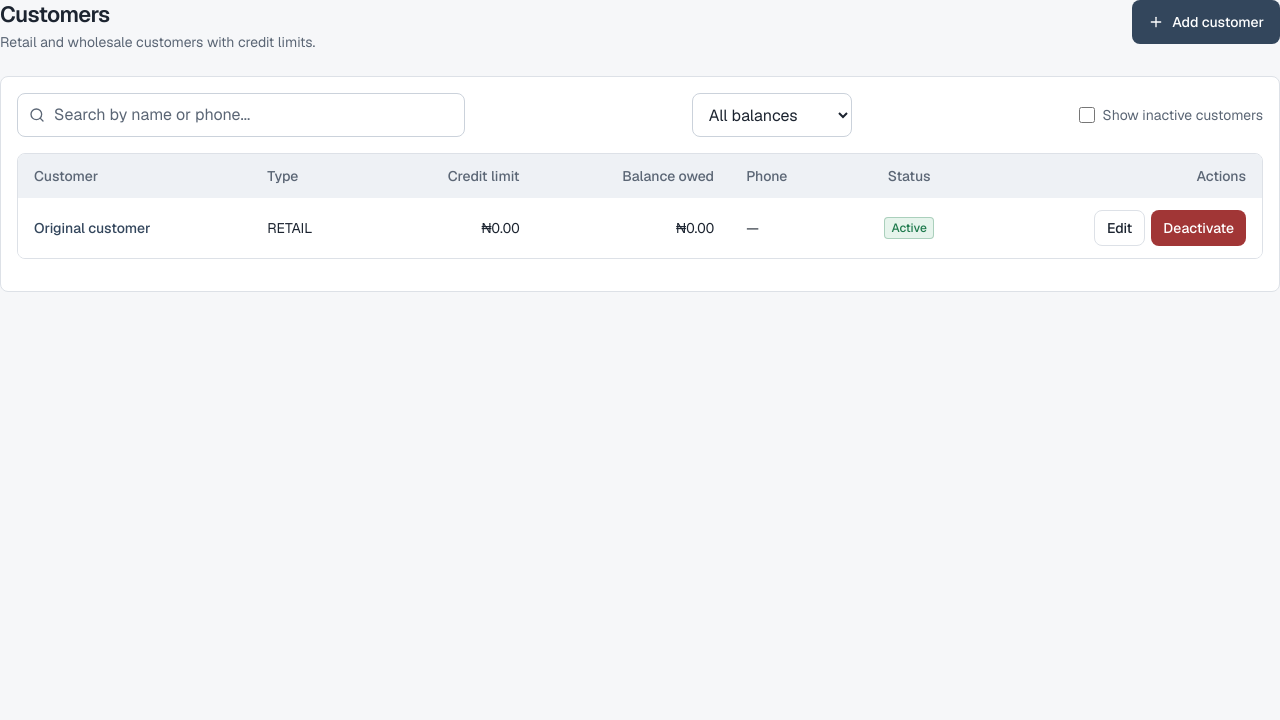
it: shows and recovers from a failed customer true save
The image size is (1280, 720).
Click the button "Edit" at (1120, 228), box [1094,210,1145,246]
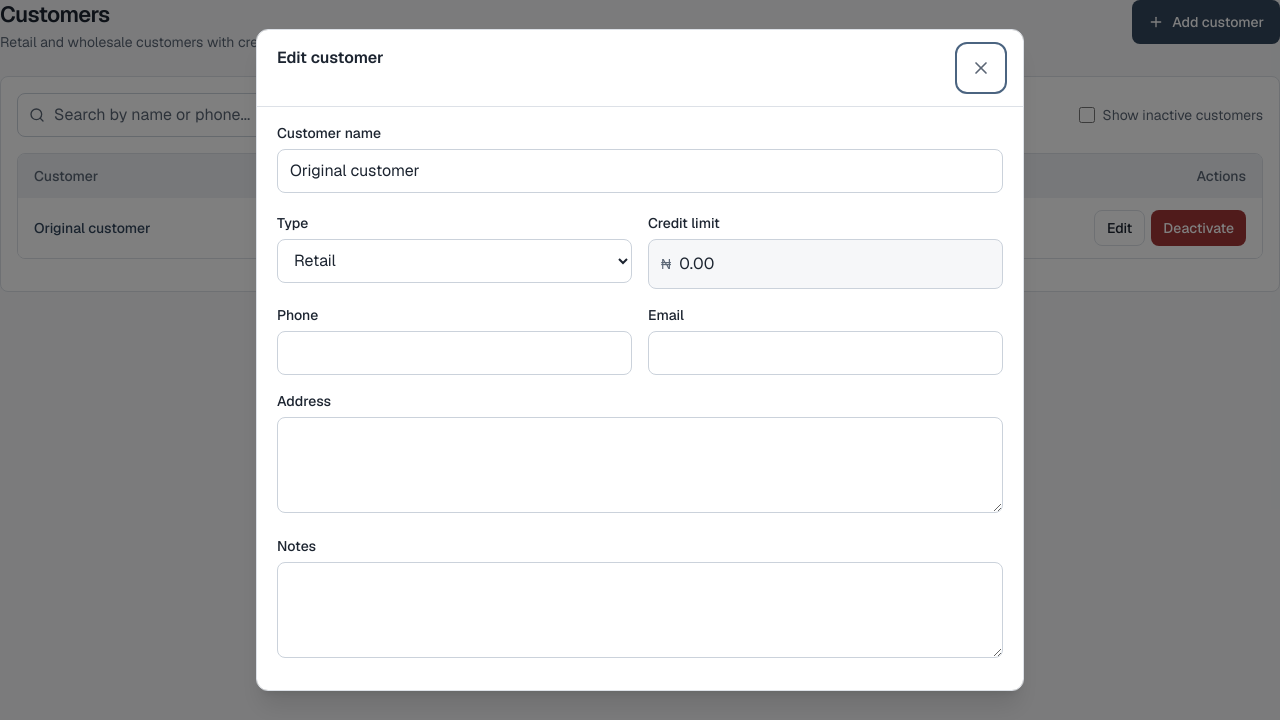
Result: the dialog is shown at [256,29,1024,691]
Replace the text in the field labelled "Customer name" with "First name" at (640, 171), box [277,149,1003,193]
(page scrolled)
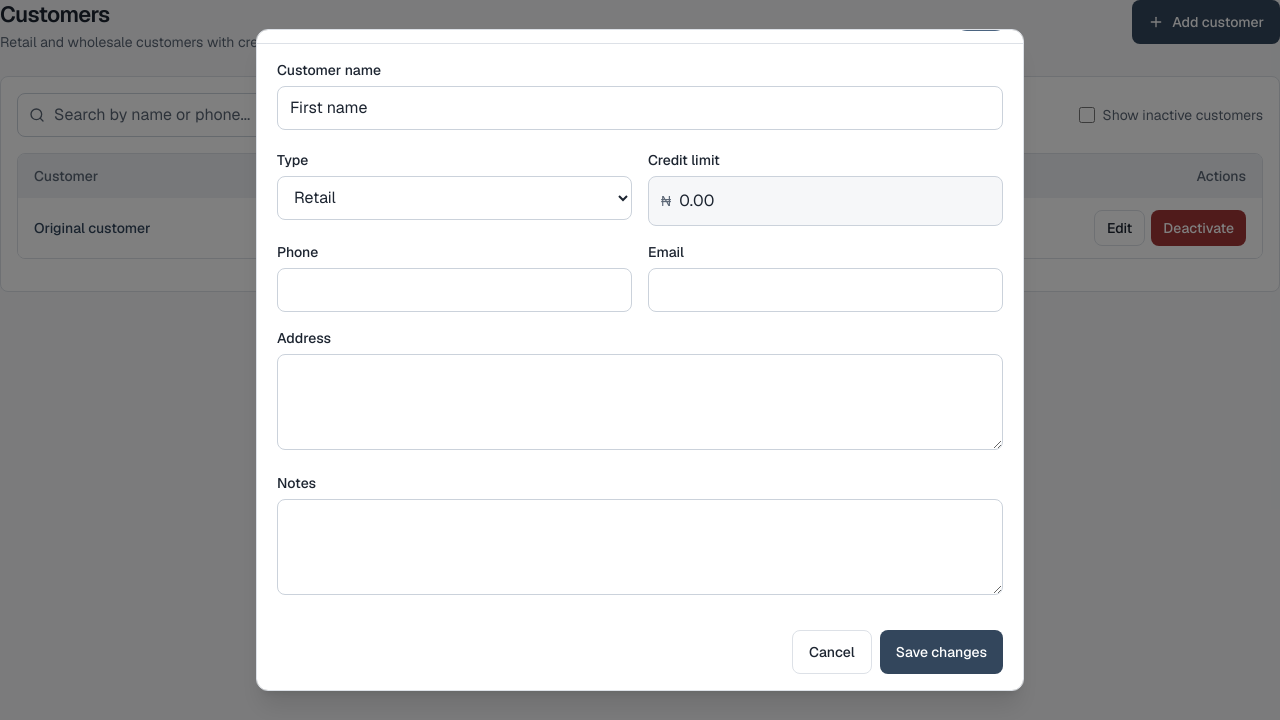
Submit the form, box [277,60,1003,674]
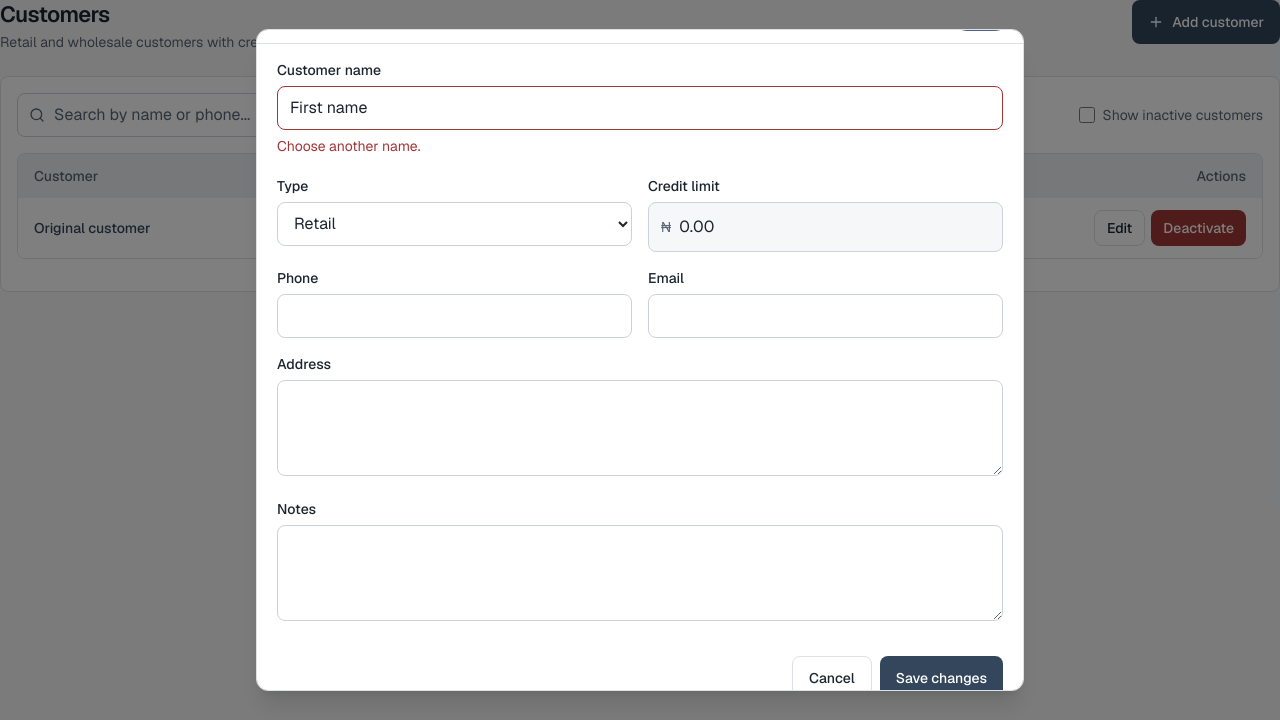
Result: the dialog is shown at [256,29,1024,691]
Result: the text "Choose another name." is shown at [277,137,420,155]
Replace the text in the field labelled "Customer name" with "Corrected name" at (640, 108), box [277,86,1003,130]
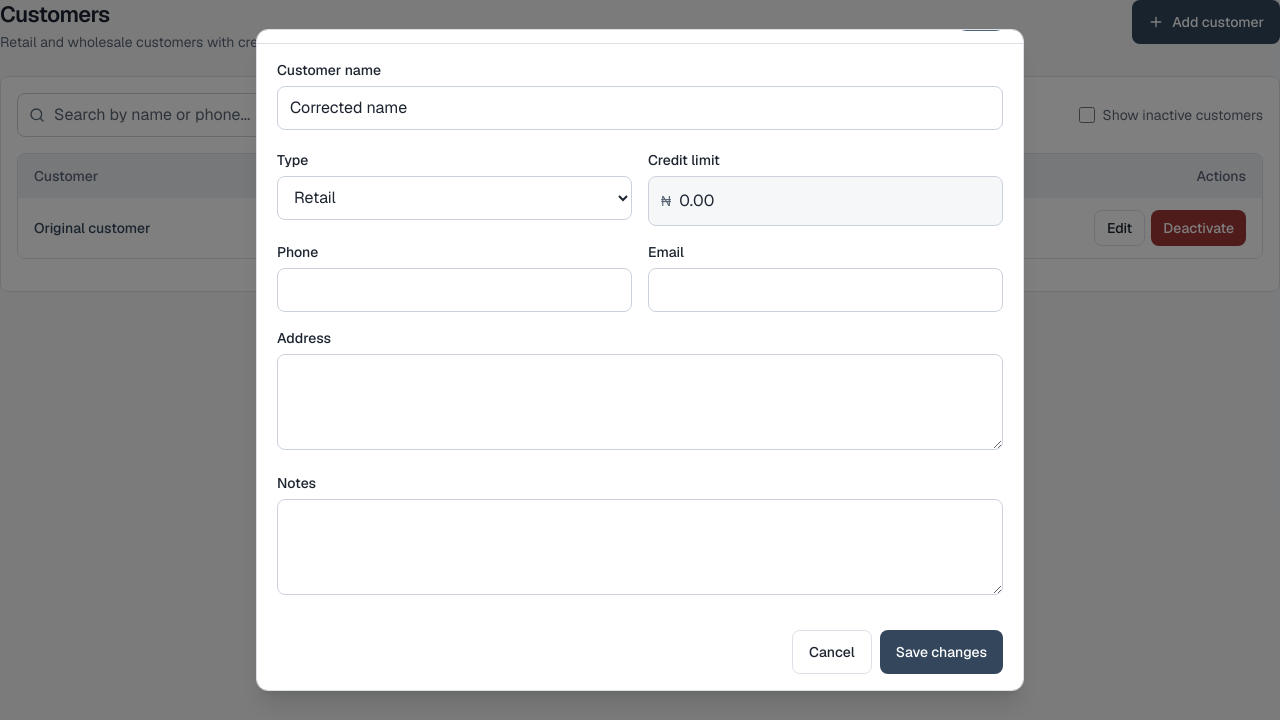
Submit the form, box [277,60,1003,674]
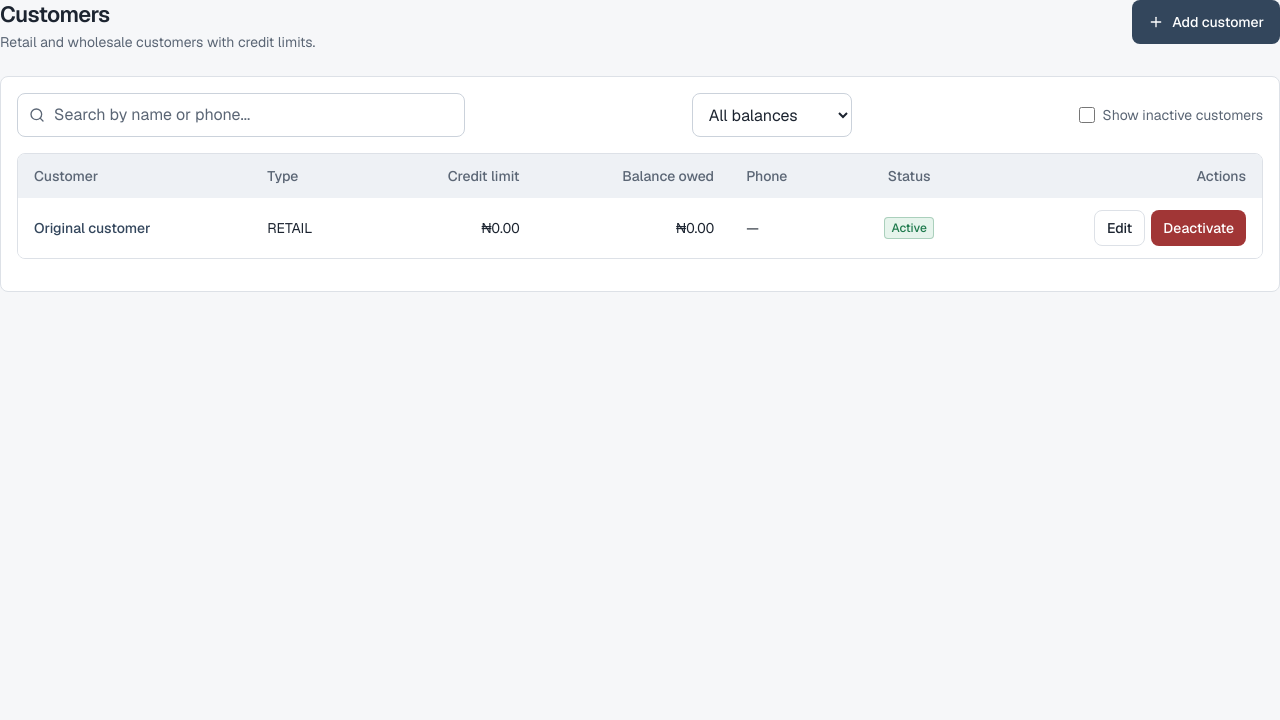
Result: the dialog is gone
